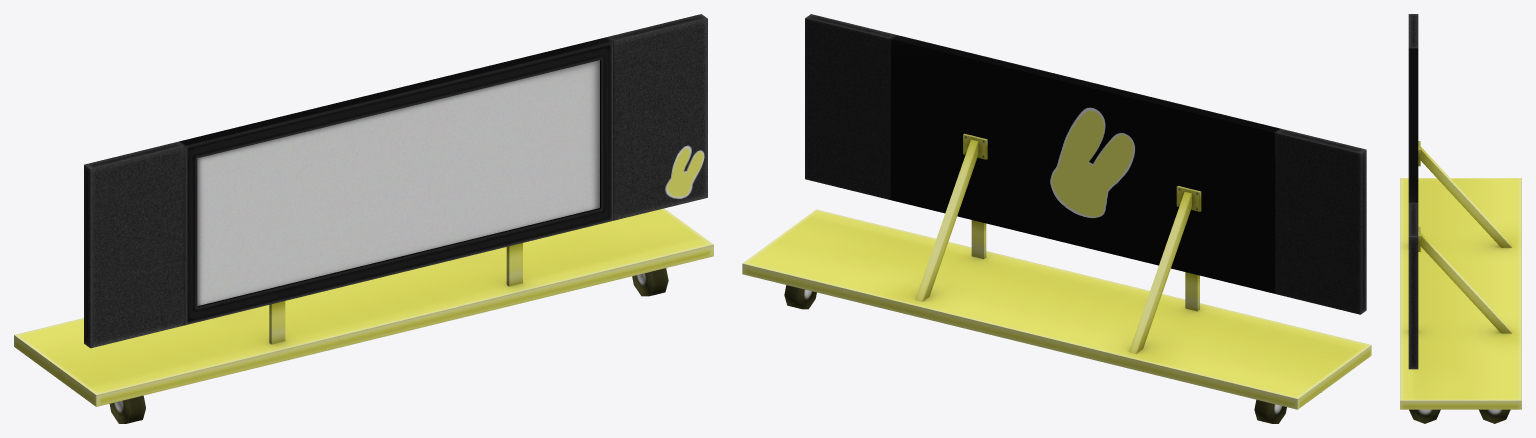
Rendered from monitor.fbx.
The picture shows the model from 3 angles, left to right: view 1: azimuth 30°, elevation 25°; view 2: azimuth 150°, elevation 25°; view 3: azimuth 270°, elevation 25°; orthographic projection. The views are drawn at different scales.
Visible parts, largest first — view 1: monitor2; view 2: monitor2; view 3: monitor2.
Boxes of the visible parts, x1,y1,x2,y2 form: monitor2: (14,14,713,423); monitor2: (742,14,1371,423); monitor2: (1400,14,1521,423).
Bounding box in the file's own units: 26 × 10.95 × 6.
1 material, 1 textured.
